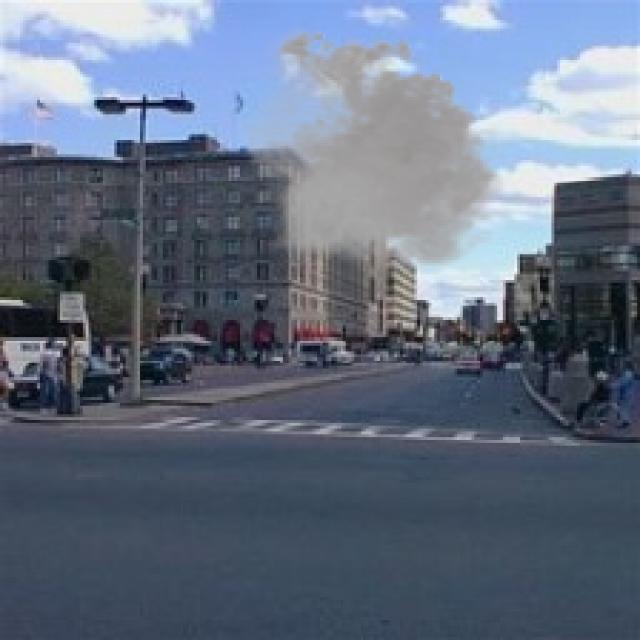Smoke: (232, 22, 514, 278)
